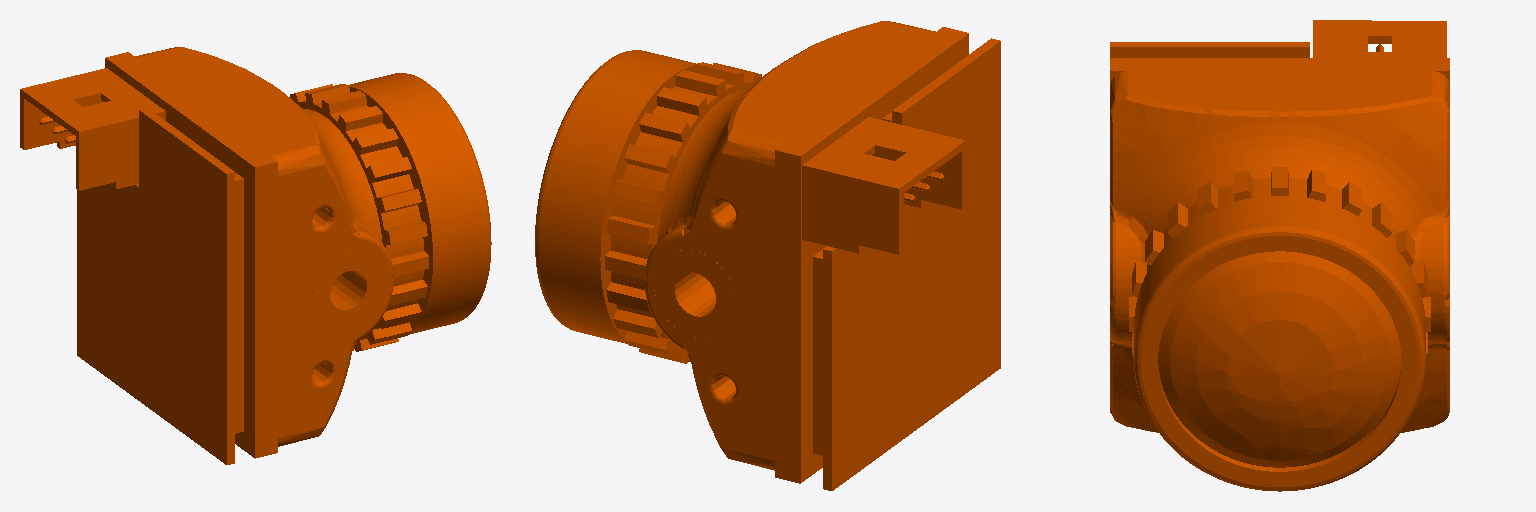
The robot description file, URDF, robot "cf2":
<?xml version="1.0" ?>

<robot name="cf2">

  <properties arm="0.0397" kf="3.16e-10" km="7.94e-12" thrust2weight="2.25" max_speed_kmh="30" gnd_eff_coeff="11.36859" prop_radius="2.31348e-2" drag_coeff_xy="9.1785e-7" drag_coeff_z="10.311e-7" dw_coeff_1="2267.18" dw_coeff_2=".16" dw_coeff_3="-.11" />

  <link name="base_link"> 

    <inertial>
      <origin rpy="0 0 0" xyz="0 0 0"/>
      <mass value="0.027"/>
      <inertia ixx="1.4e-5" ixy="0.0" ixz="0.0" iyy="1.4e-5" iyz="0.0" izz="2.17e-5"/>
    </inertial>

    <!-- links>
      <carlos url="https://arxiv.org/pdf/1608.05786.pdf" />
      <julian url="https://www.research-collection.ethz.ch/handle/20.500.11850/214143" />
      <mit url="http://groups.csail.mit.edu/robotics-center/public_papers/Landry15.pdf" />
    </links -->

    <visual>
      <origin rpy="0 0 55" xyz="0 0 0"/>
      <geometry>
        <mesh filename="./cf2.dae" scale=" 1 1 1"/>
      </geometry> 
      <material name="grey">
        <color rgba=".5 .5 .5 1"/>
      </material> 
    </visual>

    <collision>
      <origin rpy="0 0 0" xyz="0 0 0"/>
      <geometry>
        <cylinder radius=".06" length=".025"/>
      </geometry>
    </collision>  

  </link>

  <link name="prop0_link">
    <inertial>
      <origin rpy="0 0 0" xyz="0.028 -0.028 0"/>
      <mass value="0"/>
      <inertia ixx="0" ixy="0" ixz="0" iyy="0" iyz="0" izz="0"/>
    </inertial>
  </link>
  <joint name="prop0_joint" type="fixed">
    <parent link="base_link"/>
    <child link="prop0_link"/>
  </joint>

  <link name="prop1_link">
    <inertial>
      <origin rpy="0 0 0" xyz="-0.028 -0.028 0"/>
      <mass value="0"/>
      <inertia ixx="0" ixy="0" ixz="0" iyy="0" iyz="0" izz="0"/>
    </inertial>
  </link>
  <joint name="prop1_joint" type="fixed">
    <parent link="base_link"/>
    <child link="prop1_link"/>
  </joint>

  <link name="prop2_link">
    <inertial>
      <origin rpy="0 0 0" xyz="-0.028 0.028 0"/>
      <mass value="0"/>
      <inertia ixx="0" ixy="0" ixz="0" iyy="0" iyz="0" izz="0"/>
    </inertial>
  </link>
  <joint name="prop2_joint" type="fixed">
    <parent link="base_link"/>
    <child link="prop2_link"/>
  </joint>

  <link name="prop3_link">
    <inertial>
      <origin rpy="0 0 0" xyz="0.028 0.028 0"/>
      <mass value="0"/>
      <inertia ixx="0" ixy="0" ixz="0" iyy="0" iyz="0" izz="0"/>
    </inertial>
  </link>
  <joint name="prop3_joint" type="fixed">
    <parent link="base_link"/>
    <child link="prop3_link"/>
  </joint>

  <link name="cam_link">
    <inertial>
      <origin rpy="0 0 0" xyz="0.0 0.0 0.1"/>
      <mass value="0"/>
      <inertia ixx="0" ixy="0" ixz="0" iyy="0" iyz="0" izz="0"/>
    </inertial>
    <!-- <visual>
       <origin rpy="0 0 0" xyz="0.0 0.0 0.01"/>
       <geometry>
          <box size="0.01 0.01 0.01"/>
       </geometry>
    </visual> -->
    <visual>
      <origin rpy="0 0 1.57" xyz="0.0 0.0 0.1"/>
      <geometry>
        <mesh filename="./foxeer_razor_nano.stl" scale=" 0.001 0.001 0.001"/>
      </geometry> 
      <!-- <material name="grey">
        <color rgba=".5 .5 .5 1"/>
      </material>  -->
    </visual>

  </link>
  <joint name="cam_joint" type="fixed">
    <parent link="base_link"/>
    <child link="cam_link"/>
  </joint>

  <link name="center_of_mass_link">
    <inertial>
      <origin rpy="0 0 0" xyz="0 0 0"/>
      <mass value="0"/>
      <inertia ixx="0" ixy="0" ixz="0" iyy="0" iyz="0" izz="0"/>
    </inertial>
  </link>
  <joint name="center_of_mass_joint" type="fixed">
    <parent link="base_link"/>
    <child link="center_of_mass_link"/>
  </joint>

</robot>

--- Render facts (derived) ---
3 views of the same robot in one strip: view 1: azimuth 30°, elevation 25°; view 2: azimuth 150°, elevation 25°; view 3: azimuth 270°, elevation 25° (orthographic).
Model cf2 with 7 links and 6 joints (6 fixed), rooted at base_link, posed every joint at zero.
Visible links, largest first — view 1: cam_link; view 2: cam_link; view 3: cam_link.
Boxes of the visible links, x1,y1,x2,y2 form: cam_link: (20, 47, 491, 464); cam_link: (535, 21, 1000, 490); cam_link: (1110, 20, 1449, 491).
Bounding box of the posed robot: 0.0193 × 0.014 × 0.015 m (x, y, z).
Meshes: 2 distinct files referenced, 1 mesh visuals loaded (1 binary STL); not drawn: 1 (reference not matched to a file when rendering).
